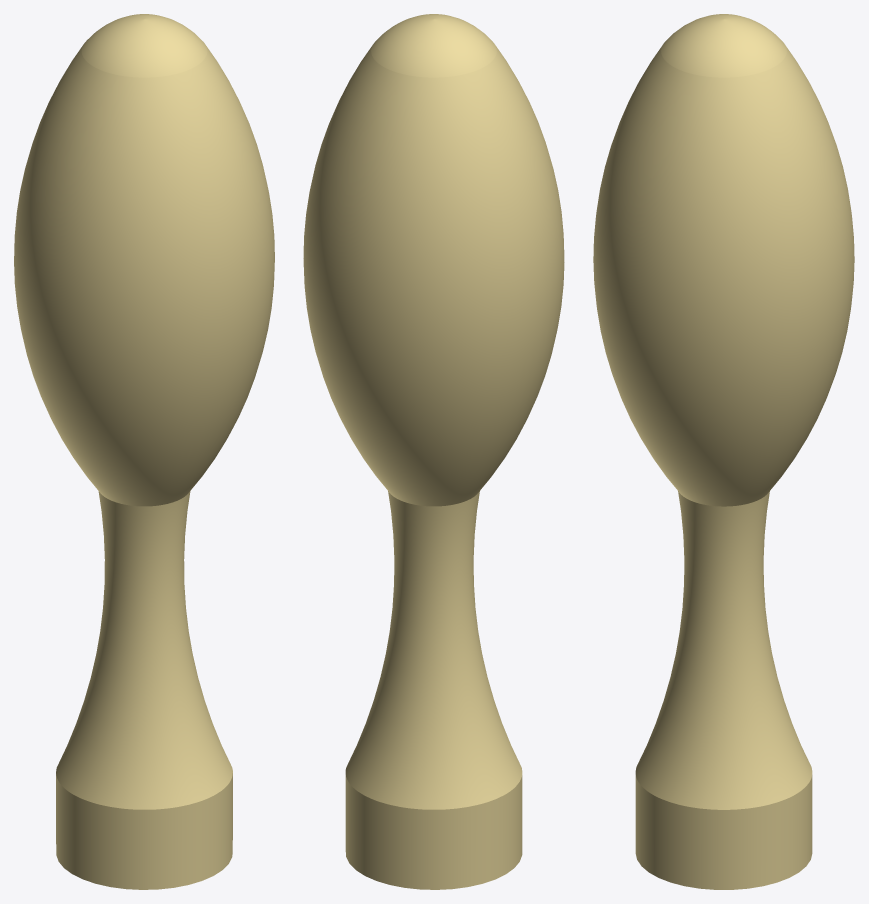
The model's file is Practice8_1.glb.
The picture shows the model from 3 angles, left to right: view 1: azimuth 30°, elevation 25°; view 2: azimuth 150°, elevation 25°; view 3: azimuth 270°, elevation 25°; orthographic projection.
Visible parts, largest first — view 1: Default - Part; view 2: Default - Part; view 3: Default - Part.
Part boxes in pixels (x1,y1,x2,y2): Default - Part: (14,14,274,889); Default - Part: (303,14,564,889); Default - Part: (593,14,854,889).
Bounding box in the file's own units: 0.5989 × 2.11 × 0.5998.
